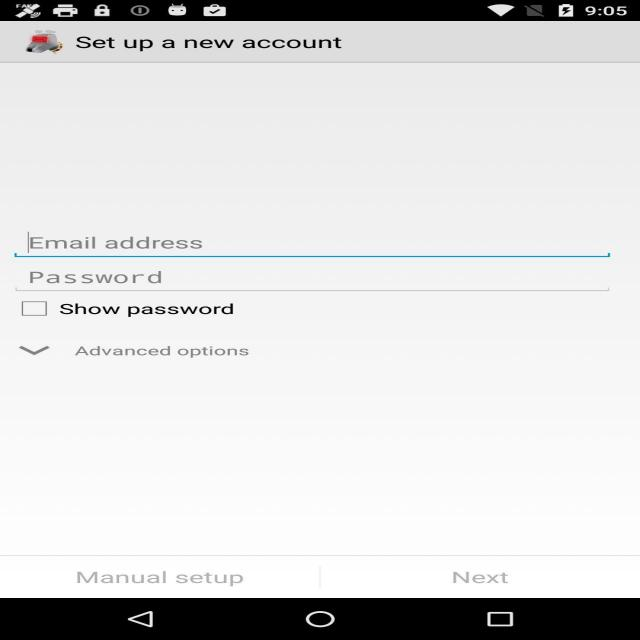button: (103, 606, 177, 633), (453, 611, 530, 630), (292, 608, 334, 624), (14, 343, 39, 363), (294, 604, 385, 607)
icon: (2, 8, 229, 17), (471, 6, 593, 15)
text: (68, 34, 369, 53), (65, 567, 263, 587), (17, 271, 180, 290), (80, 302, 247, 318), (73, 346, 281, 358), (27, 238, 235, 248), (444, 568, 534, 580), (587, 5, 640, 18)
